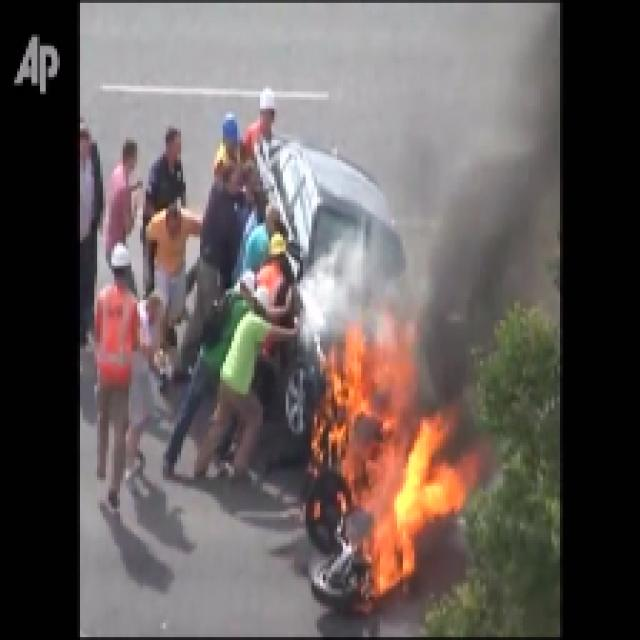fire: (328, 353, 446, 579)
smoke: (438, 81, 551, 326)
